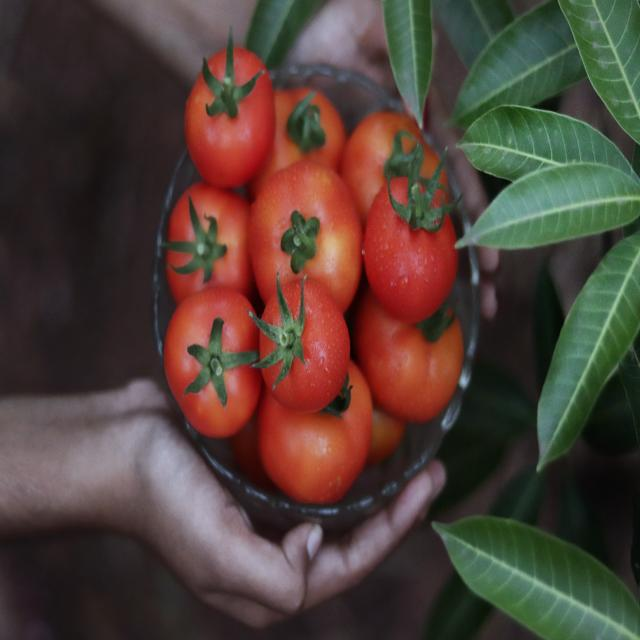Tomato: (159, 280, 286, 446), (256, 158, 370, 302), (374, 158, 469, 328), (248, 283, 358, 416), (186, 45, 280, 181)
